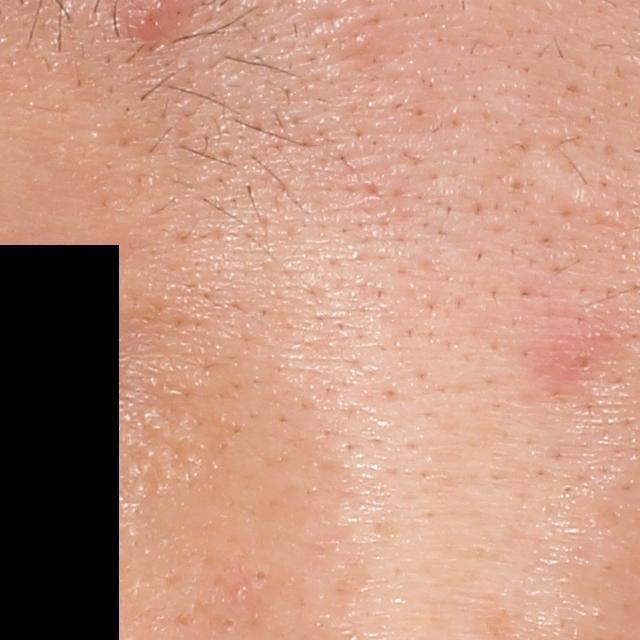comedo: (254, 567, 271, 584)
